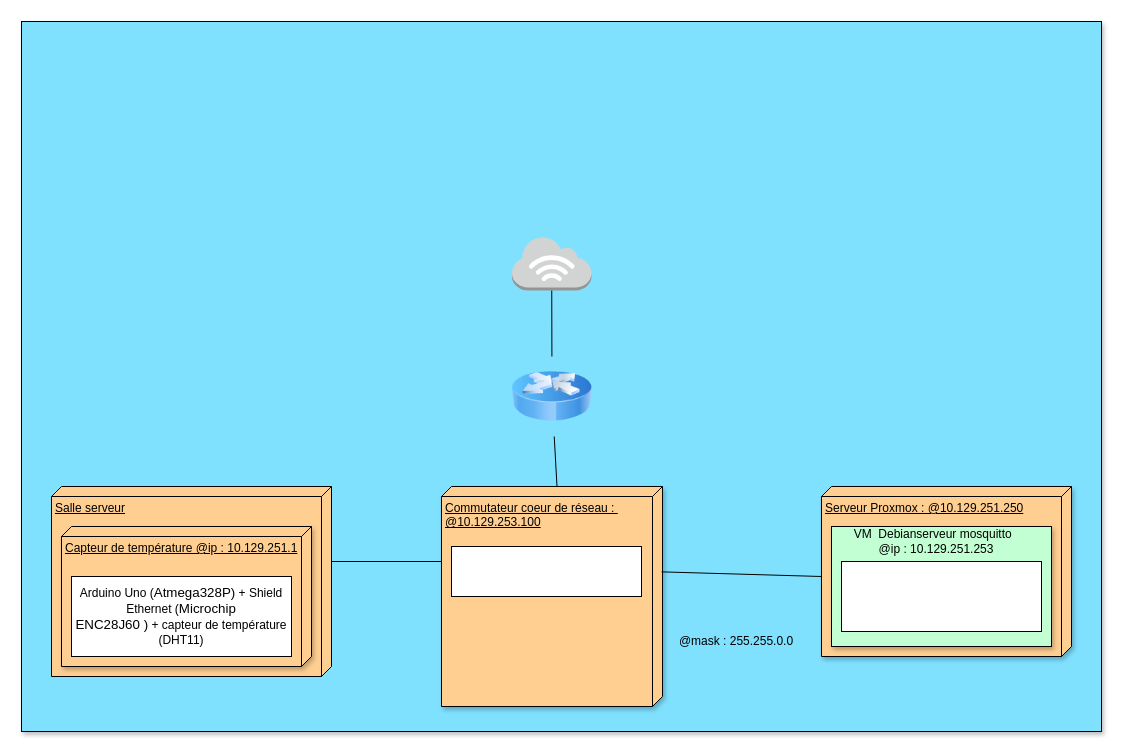
This 1125x756 diagram has some shape labels left out. The centre of each missing label's shape, as x and y in pixels:
Interface libres : g1/0/21 et g1/0/22 VLAN 1 (default): (x=546, y=571)
MQTT SSL/TLS SMTP serveur WEB: (x=941, y=596)
